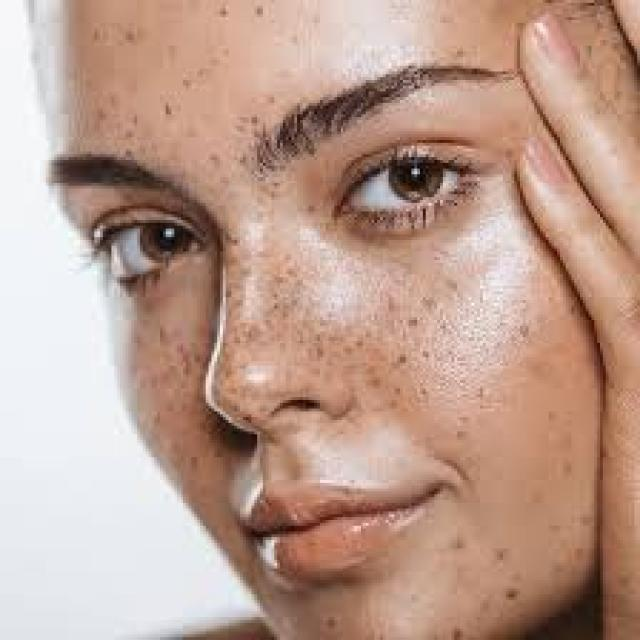pigmentation: (228, 278, 472, 382), (89, 27, 211, 130)
